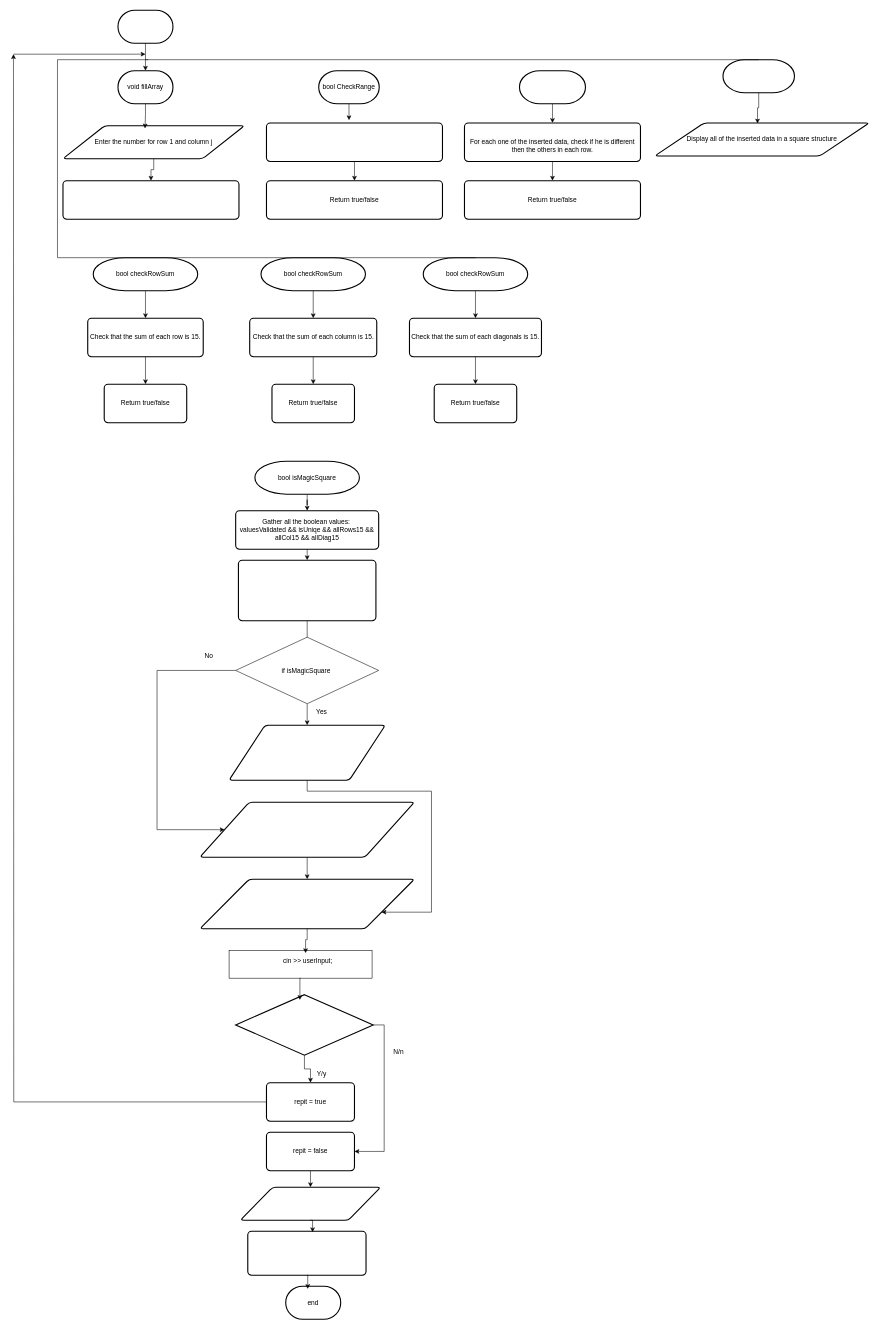
Image size: 879x1329. Some labels were removed from this diagram. Each missing label, with the box of its shape:
(true- if and only if everything is true, else - false) Return true/false: (238, 559, 376, 621)
bool checkUnique: (519, 70, 586, 104)
cout << "\n\n\nDo you want to try again? ";: (199, 878, 415, 929)
cout << "Amazing!!\nThis is a Lo Shu magic square!!";: (228, 724, 386, 780)
cout << "This is not a Lo Shu magic square";: (199, 801, 415, 857)
Display exit message: (240, 1186, 381, 1220)
For each one of the inserted data, check if he is whitin the range. (1 to 9): (266, 122, 443, 162)
Start: (117, 9, 173, 43)
Storing the inserted data in a three arrays (one for each row): (62, 180, 239, 219)
system("pause");: (247, 1230, 366, 1275)
userInput do while loop: (235, 994, 373, 1055)
void showArray: (722, 59, 795, 93)
